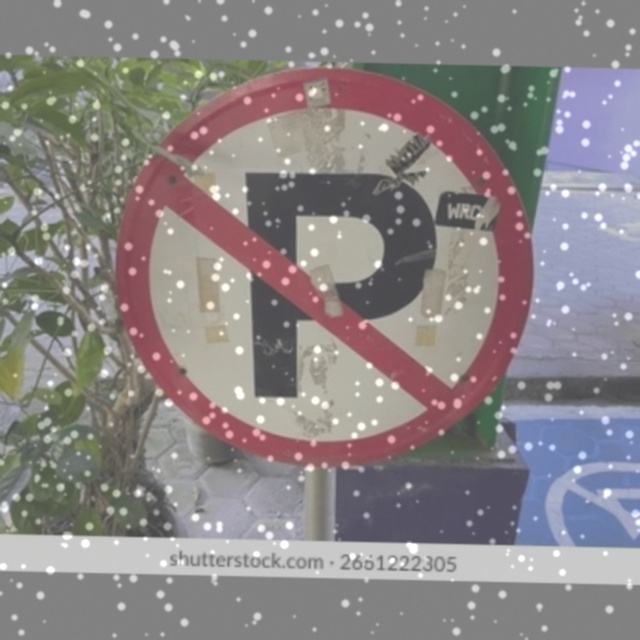No_Parking: (116, 63, 530, 457)
